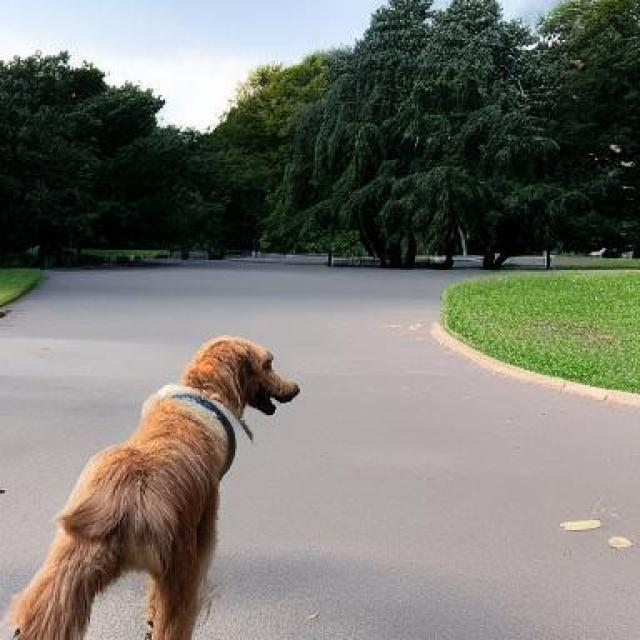Dog: (12, 334, 301, 640)
